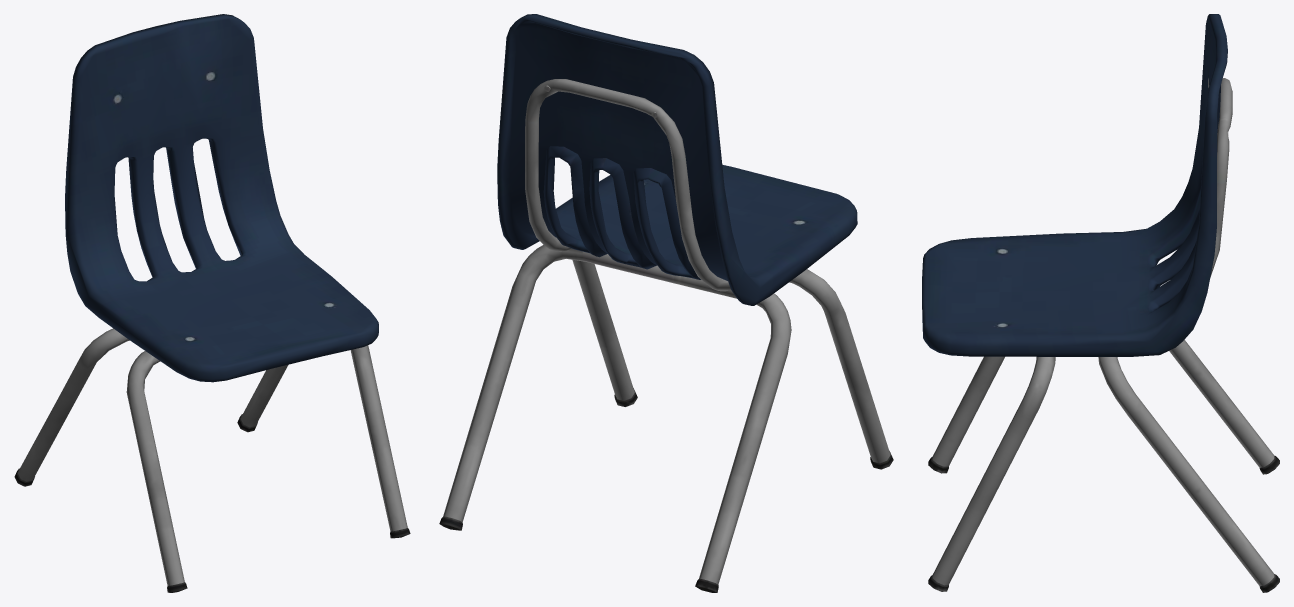
Rendered from SchoolChair_01.glb.
3 renders of one model, left to right at view 1: azimuth 30°, elevation 25°; view 2: azimuth 150°, elevation 25°; view 3: azimuth 270°, elevation 25°, orthographic. The views are drawn at different scales.
Visible parts, largest first — view 1: SchoolChair_01; view 2: SchoolChair_01; view 3: SchoolChair_01.
Part boxes in pixels (<box>): SchoolChair_01: <box>14,14,410,592</box>; SchoolChair_01: <box>439,14,893,592</box>; SchoolChair_01: <box>922,14,1279,592</box>.
Bounding box in the file's own units: 0.5658 × 1 × 0.6732.
1 material, 1 textured.
